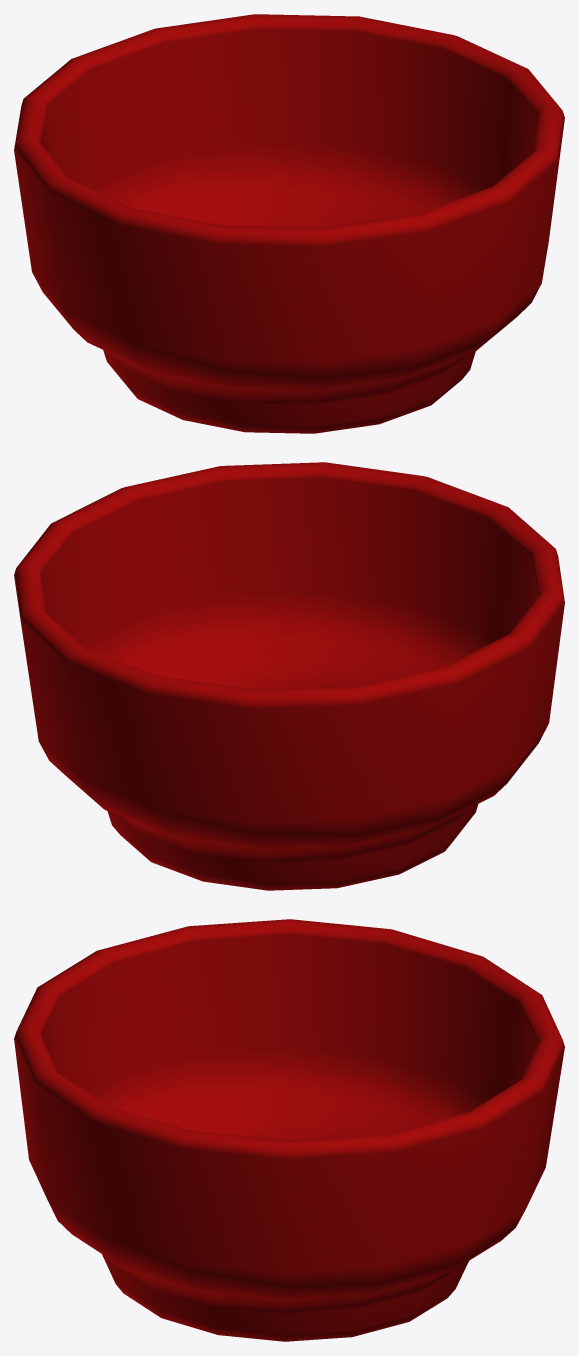
Rendered from SM_Bowl_01.fbx.
3 renders of one model, top to bottom at view 1: azimuth 30°, elevation 25°; view 2: azimuth 150°, elevation 25°; view 3: azimuth 270°, elevation 25°, orthographic.
Parts seen in each view (by area): view 1: SM_Bowl_01; view 2: SM_Bowl_01; view 3: SM_Bowl_01.
Part boxes in pixels (box(x1,y1,x2,y2)): SM_Bowl_01: box(14, 14, 564, 433); SM_Bowl_01: box(14, 462, 564, 890); SM_Bowl_01: box(14, 919, 564, 1341).
Bounding box in the file's own units: 19.93 × 19.93 × 9.82.
